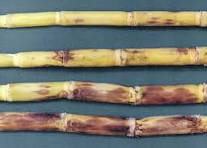Node: (50, 5, 68, 30), (55, 43, 72, 68), (112, 43, 129, 68), (187, 41, 202, 68), (125, 86, 145, 106), (126, 117, 141, 140), (61, 81, 78, 101), (123, 9, 138, 30), (58, 113, 71, 133)
Red-Rot: (1, 110, 207, 138), (30, 79, 202, 106), (127, 43, 193, 70), (141, 5, 184, 37), (36, 47, 88, 70)
